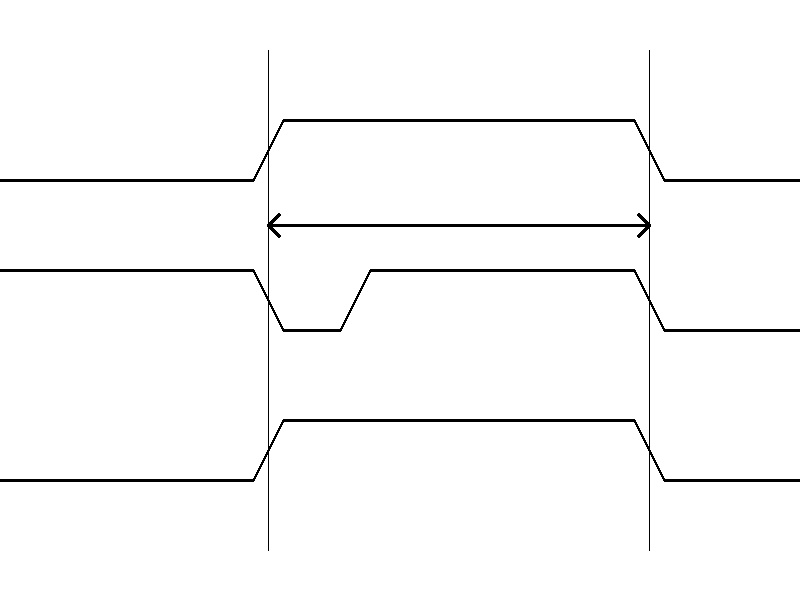double_arrow: (268, 210, 649, 240)
